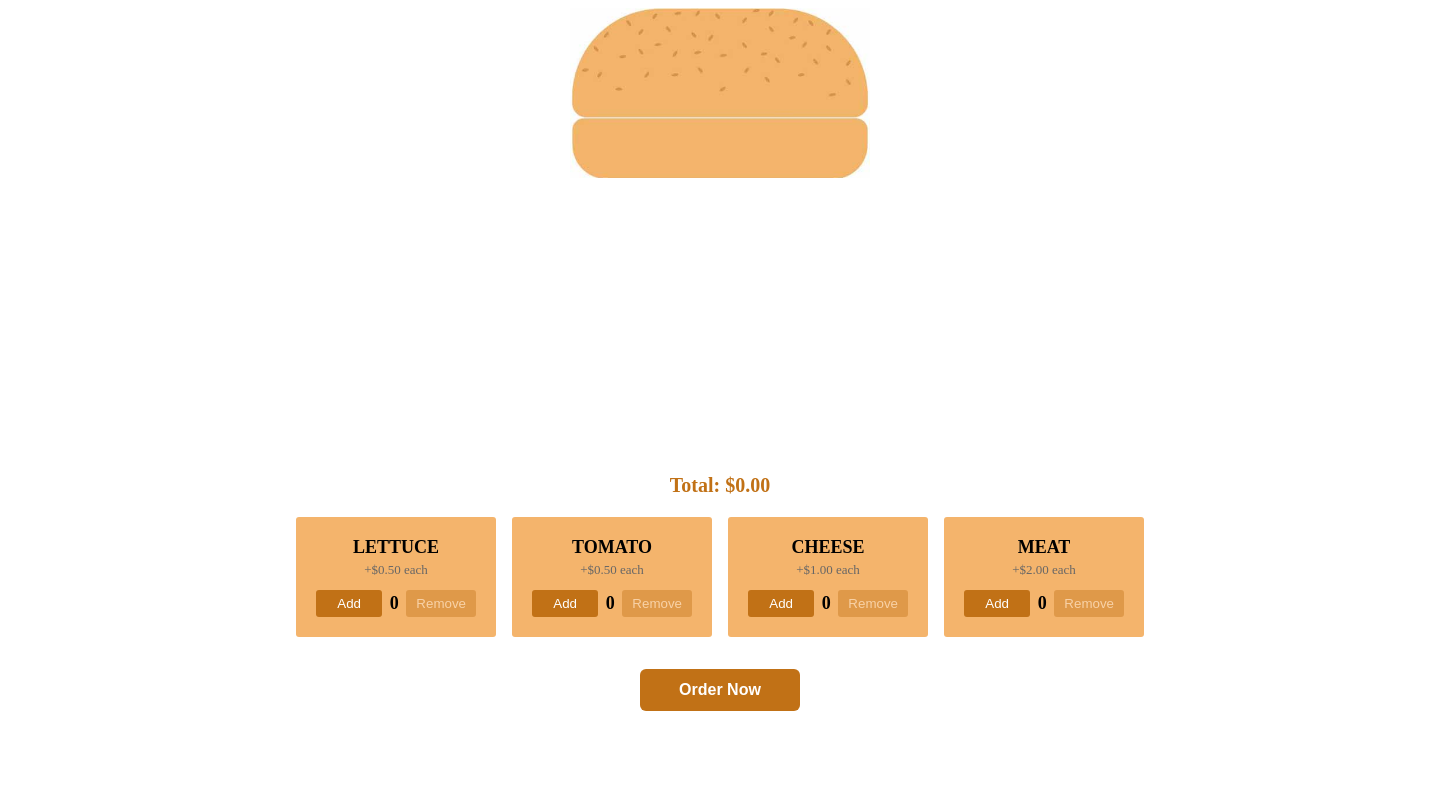
Scenario: Burger › shows order modal when Order Now is clicked
Click the button "Order Now": (720, 690) [640, 669, 800, 711]
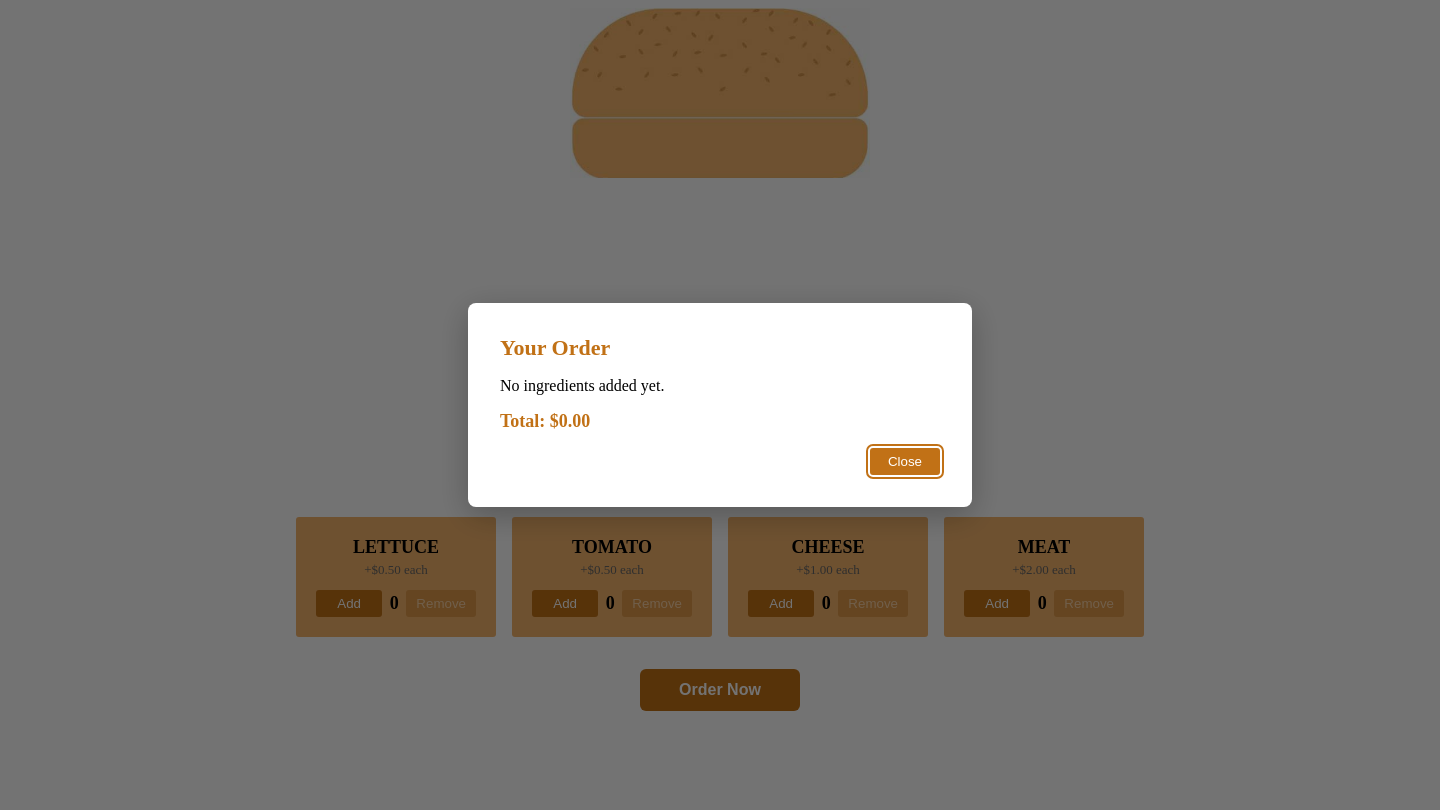
Expected: the heading "Your Order" is shown, [500, 335, 610, 360]
